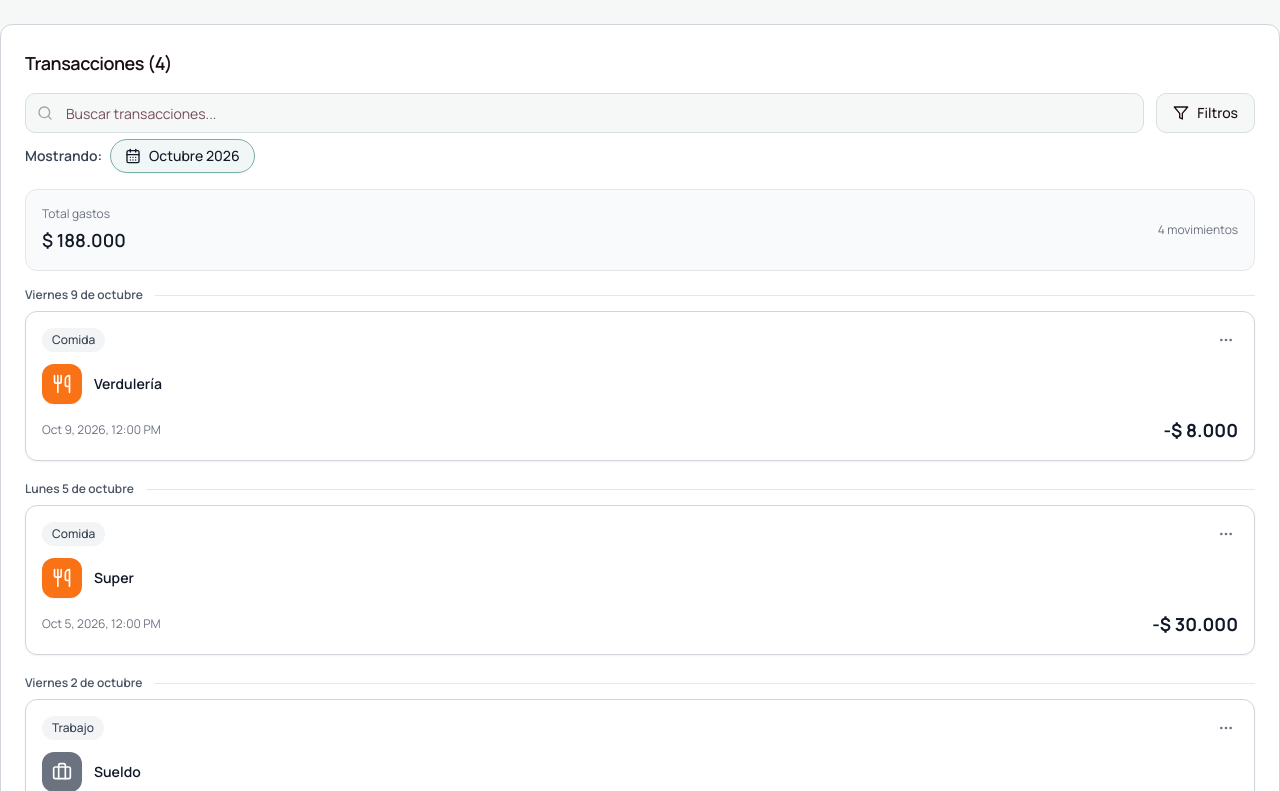
Historial › Limpiar clears search, category and type at once
Click the button "Filtros" at (1206, 113), box top-left (1156, 93), bottom-right (1255, 133)
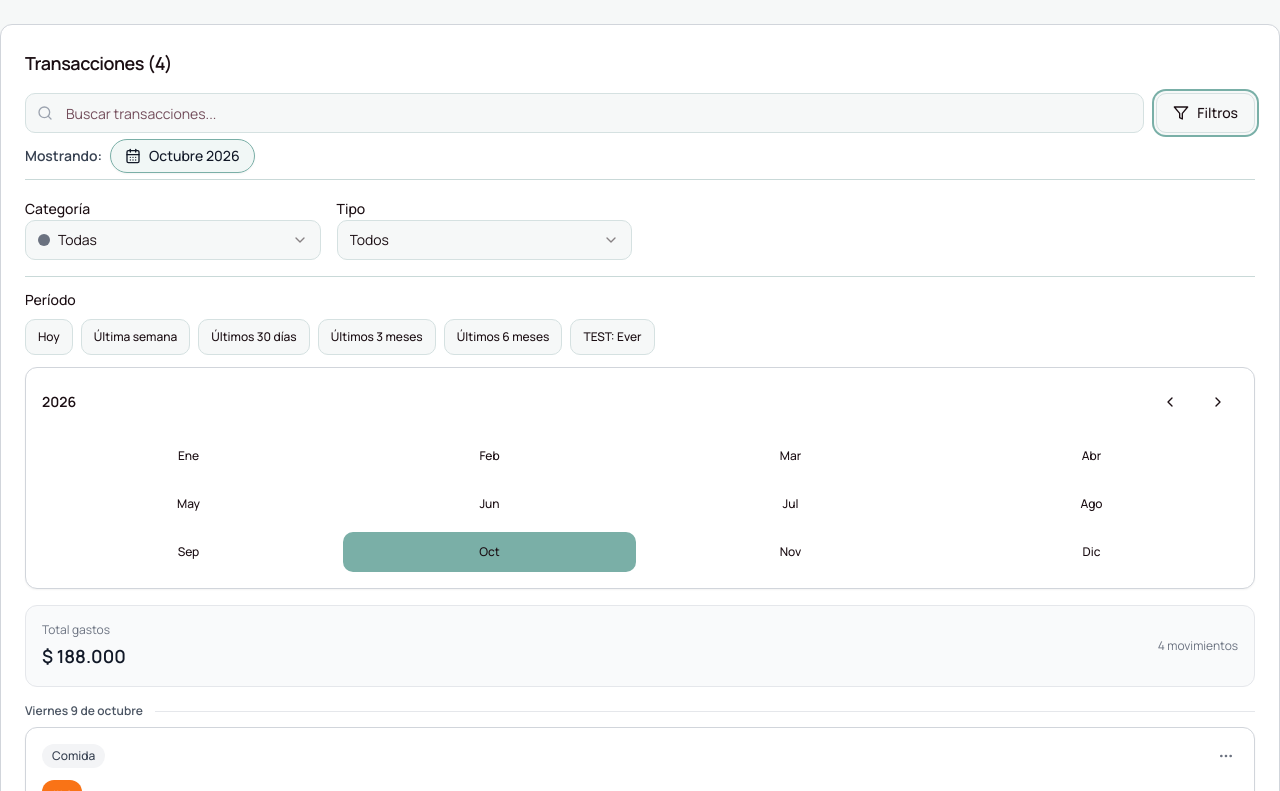
Click the dropdown labelled "Todas" at (77, 240), box top-left (25, 220), bottom-right (320, 260)
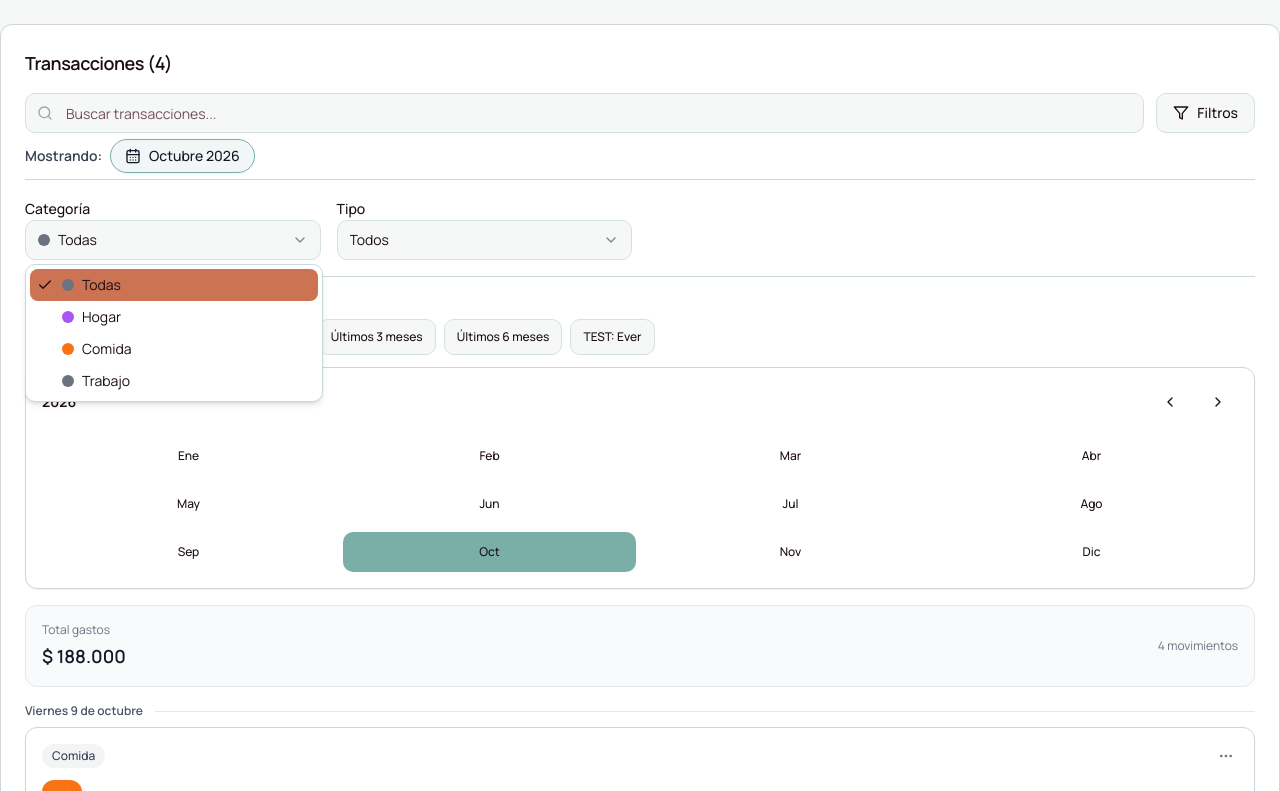
Click the option "Comida" at (97, 348), box top-left (62, 339), bottom-right (132, 358)
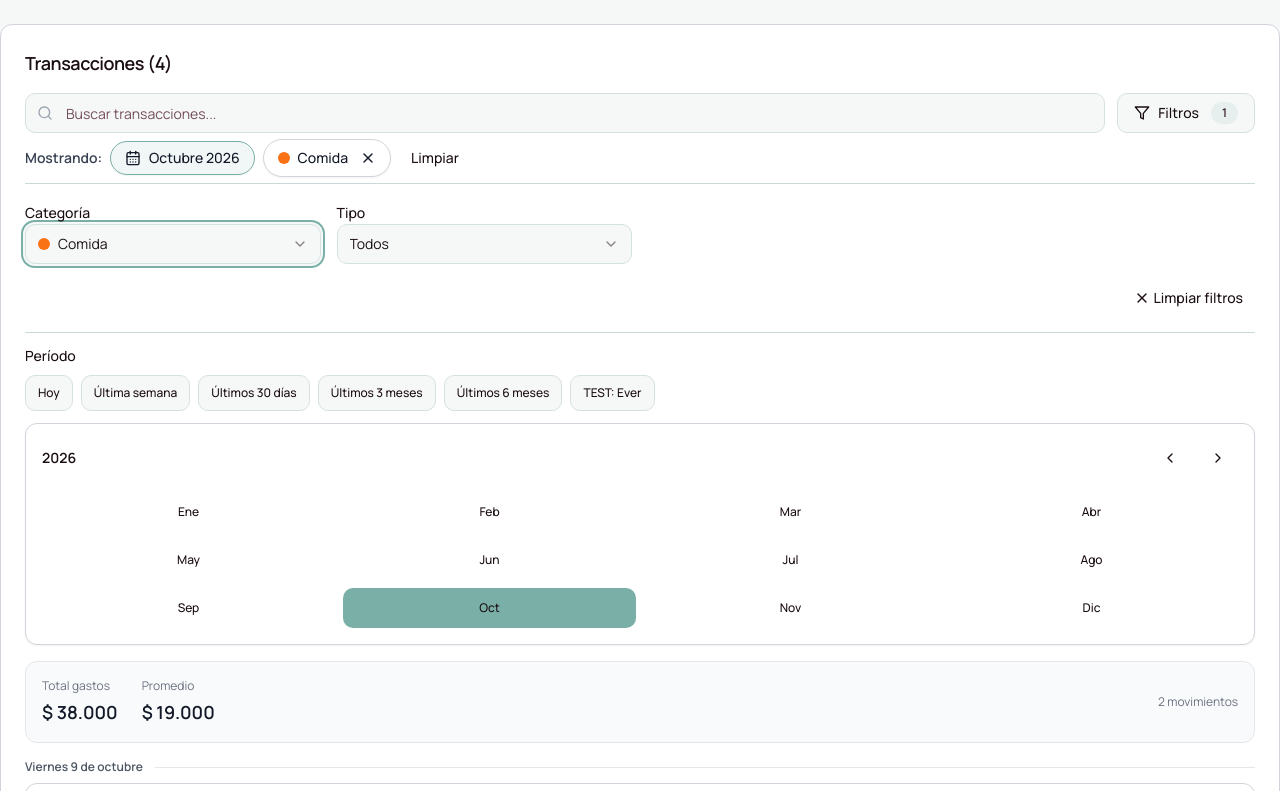
Type "super" into the field with placeholder "Buscar transacciones..." at (565, 113), box top-left (25, 93), bottom-right (1105, 133)
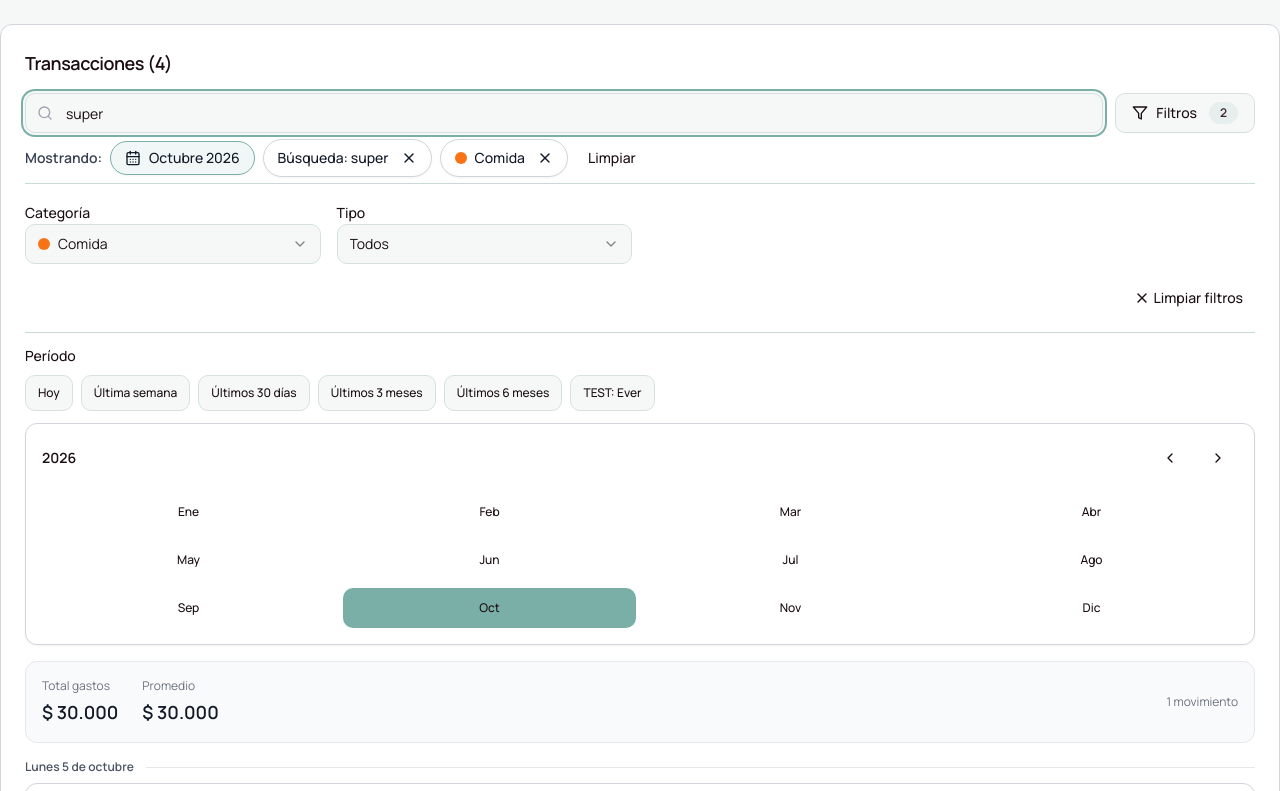
Click the button "Limpiar" at (612, 158), box top-left (576, 140), bottom-right (648, 176)
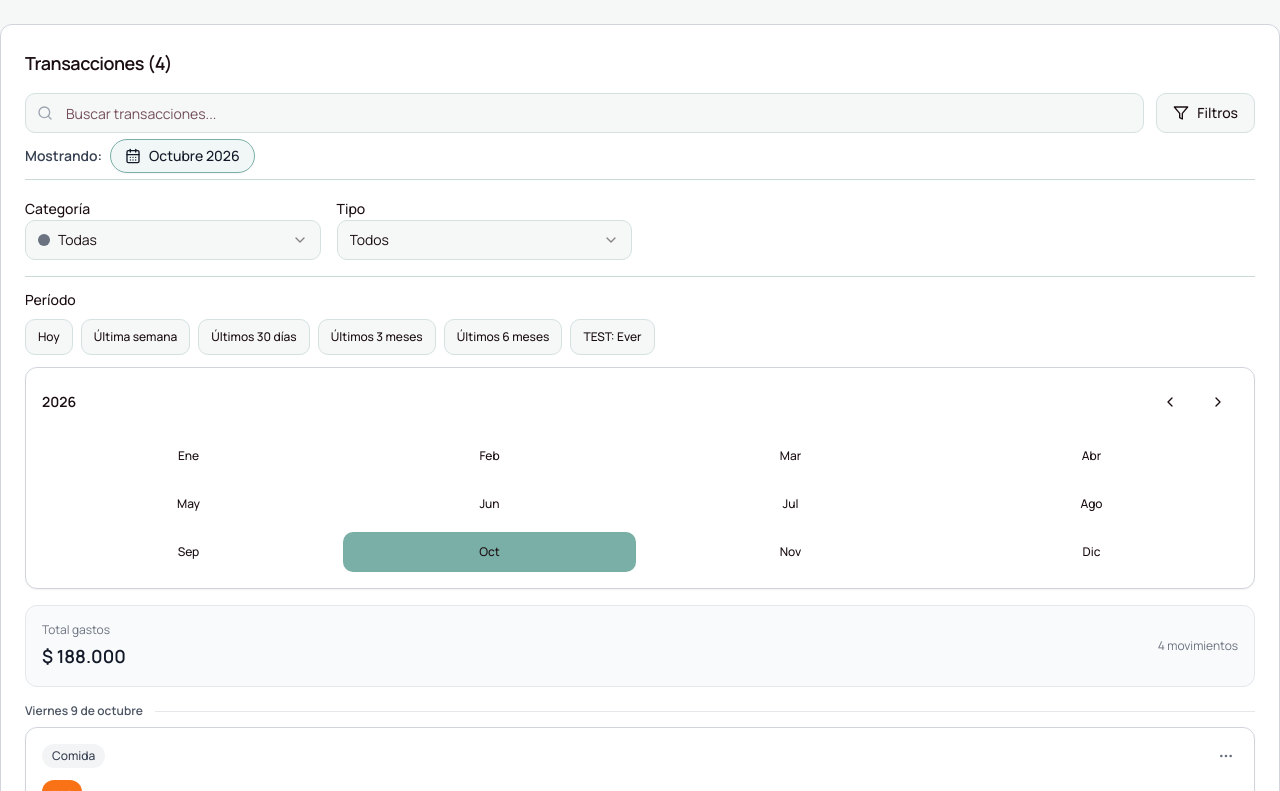
Check: the field with placeholder "Buscar transacciones..." is empty, box top-left (25, 93), bottom-right (1144, 133)
